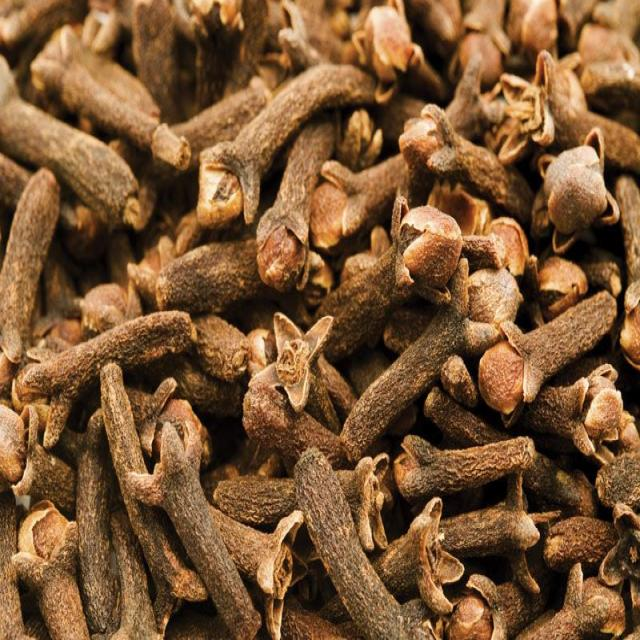clove: (0, 0, 640, 638)
